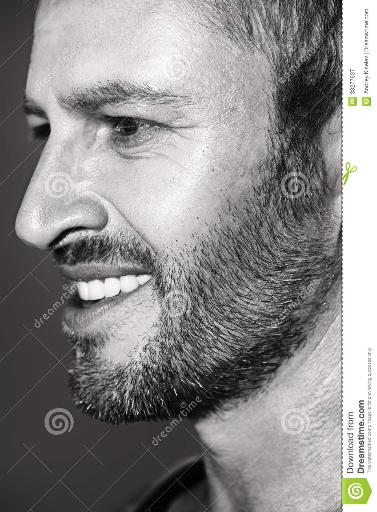left_eye: (96, 107, 170, 145)
left_lip_corner: (131, 265, 157, 293)
